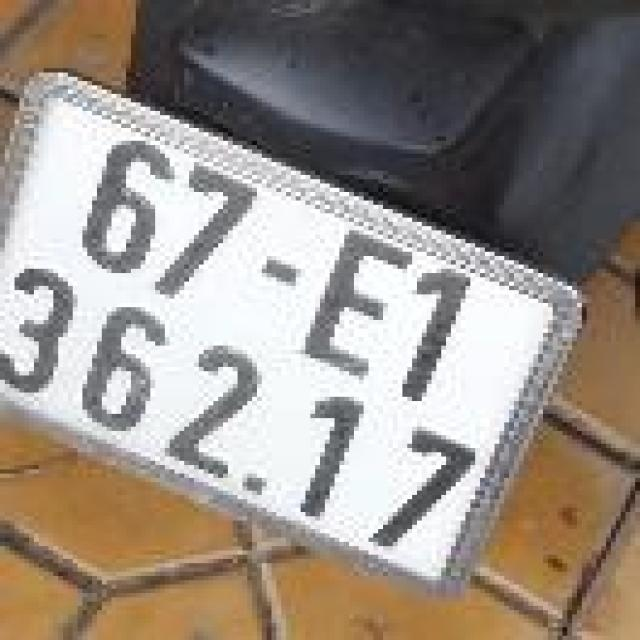1: (379, 242, 481, 421), (278, 378, 387, 533)
2: (154, 327, 275, 492)
3: (0, 239, 97, 407)
6: (69, 113, 189, 293), (58, 280, 186, 447)
7: (143, 148, 281, 311), (349, 413, 492, 569)
E: (293, 213, 429, 391)
